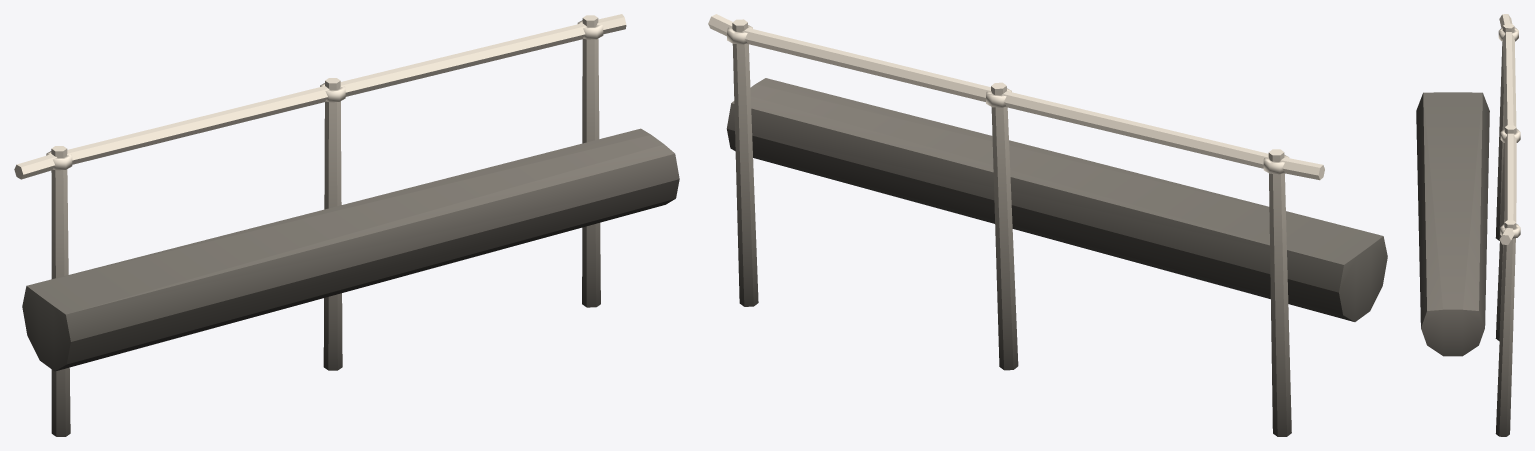
Rendered from SM_VK_Bridge_Log.fbx.
3 views of the same model, side by side, from view 1: azimuth 30°, elevation 25°; view 2: azimuth 150°, elevation 25°; view 3: azimuth 270°, elevation 25° (orthographic). The views are drawn at different scales.
Visible parts, largest first — view 1: SM_VK_Bridge_Log.001; view 2: SM_VK_Bridge_Log.001; view 3: SM_VK_Bridge_Log.001.
Part boxes in pixels (<box>): SM_VK_Bridge_Log.001: <box>14,14,679,436</box>; SM_VK_Bridge_Log.001: <box>708,14,1387,436</box>; SM_VK_Bridge_Log.001: <box>1416,14,1520,436</box>.
Bounding box in the file's own units: 4.51 × 1.98 × 0.8804.
